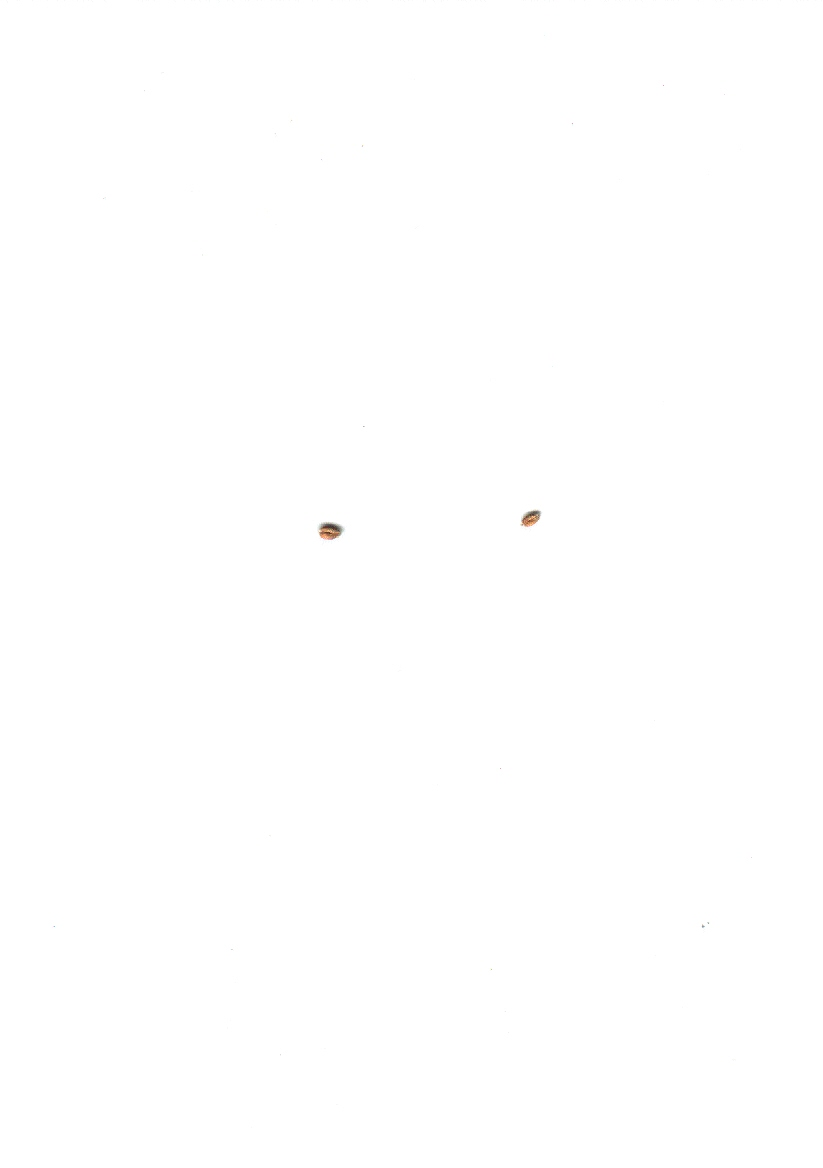grains: (302, 507, 351, 553), (511, 498, 553, 542)
